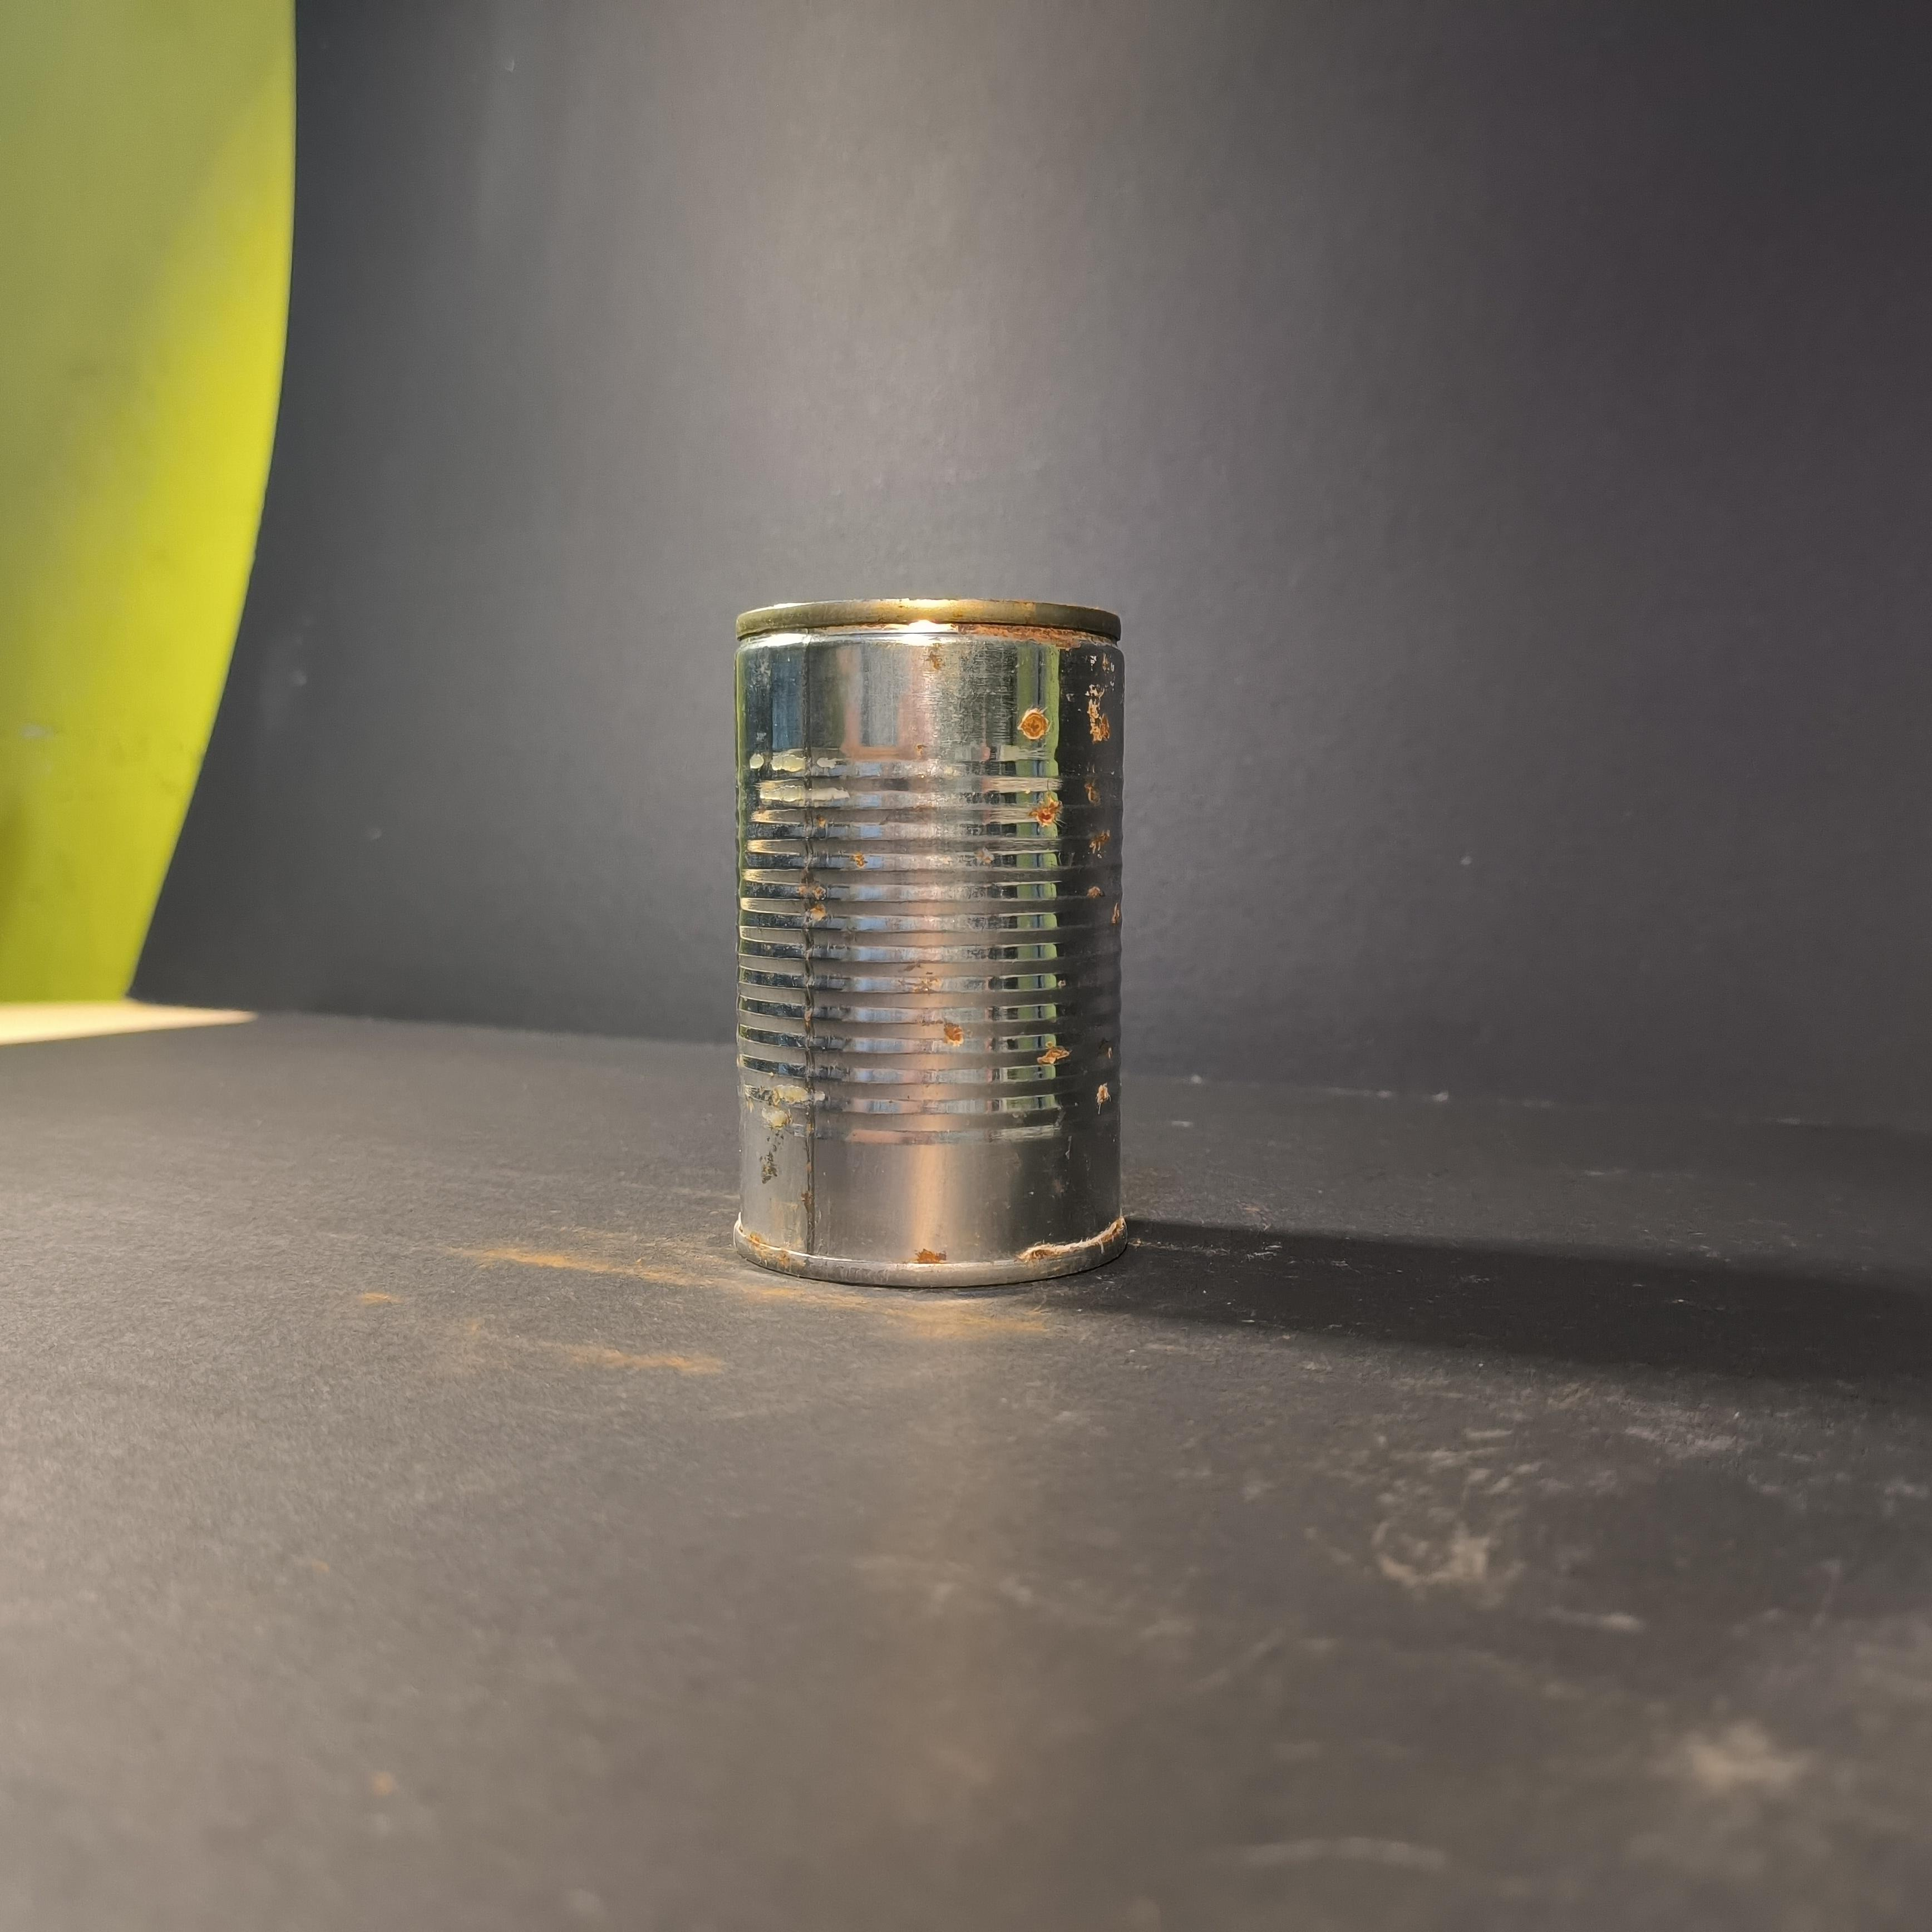Rusted: (718, 564, 1146, 1293)
